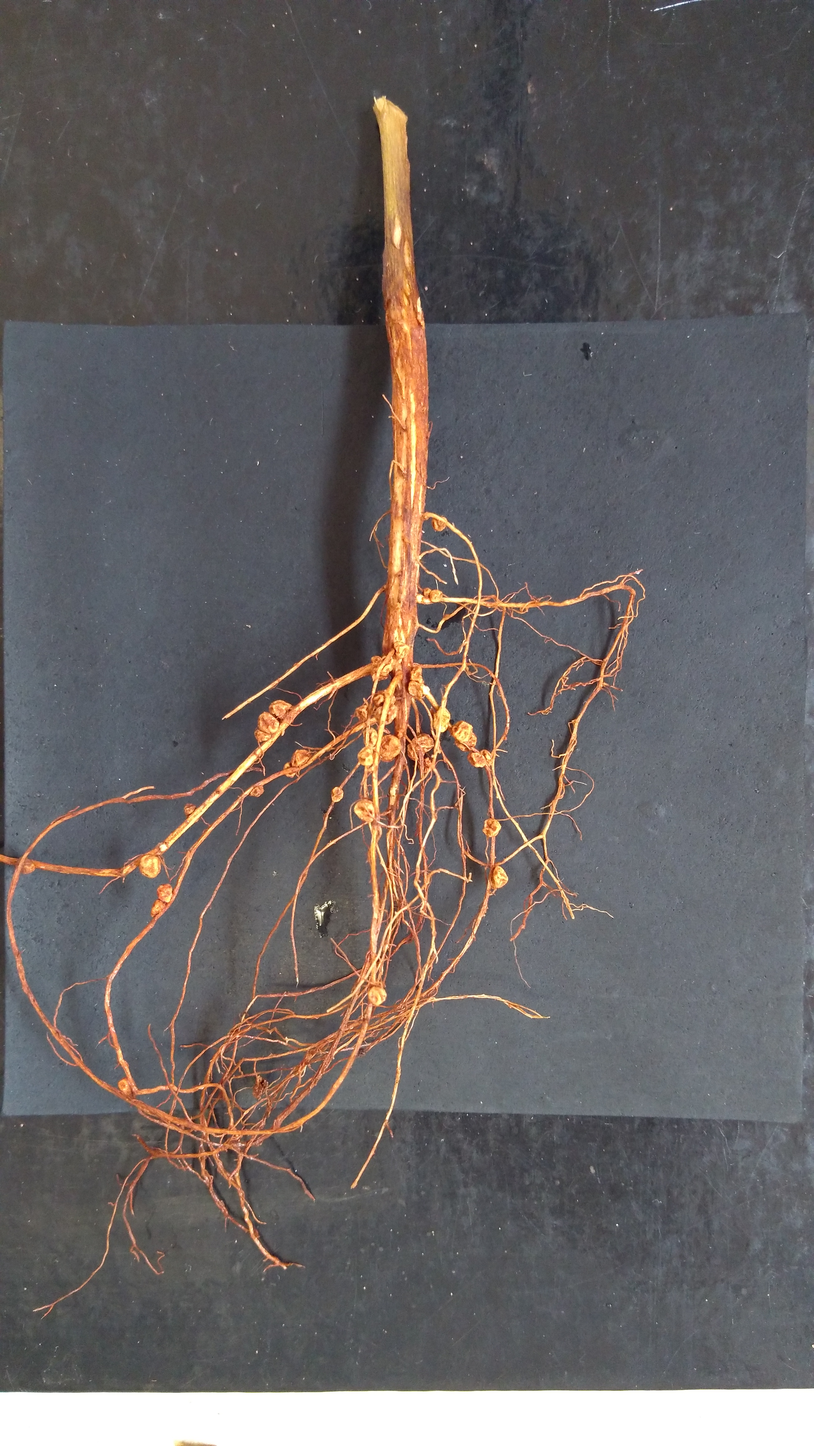nodule: (405, 732, 435, 762), (252, 710, 277, 743), (138, 853, 163, 881), (369, 655, 394, 683), (351, 798, 376, 825), (267, 698, 295, 721), (431, 704, 452, 734), (449, 718, 473, 744), (380, 735, 402, 763), (373, 704, 399, 726), (366, 984, 388, 1008), (453, 732, 479, 752), (480, 818, 503, 839), (491, 865, 509, 890), (289, 748, 311, 768), (356, 745, 374, 768), (392, 639, 411, 660), (116, 1075, 134, 1096), (466, 752, 486, 770), (156, 883, 174, 903), (406, 680, 425, 698), (181, 799, 198, 819), (150, 898, 167, 917), (329, 786, 346, 804), (430, 517, 449, 533), (363, 727, 378, 747), (354, 703, 370, 721), (409, 664, 424, 683), (478, 749, 494, 766), (248, 784, 266, 799), (282, 762, 297, 779), (429, 588, 444, 603), (373, 693, 385, 707), (422, 586, 433, 600)
